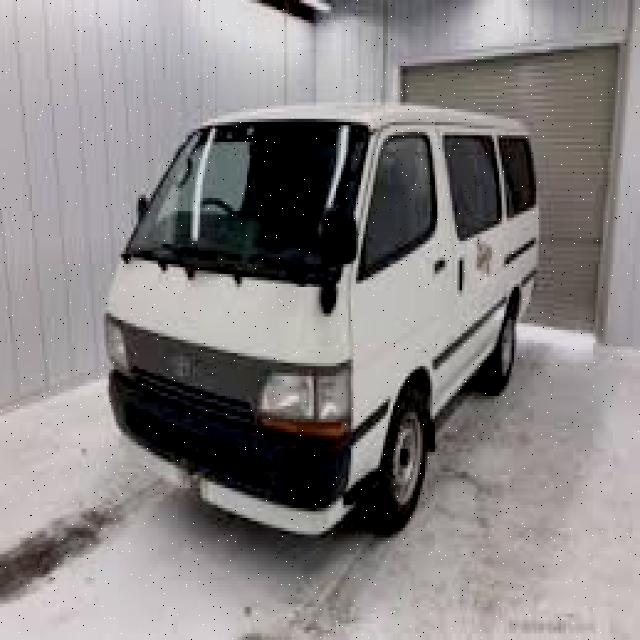Van: (96, 92, 548, 528)
